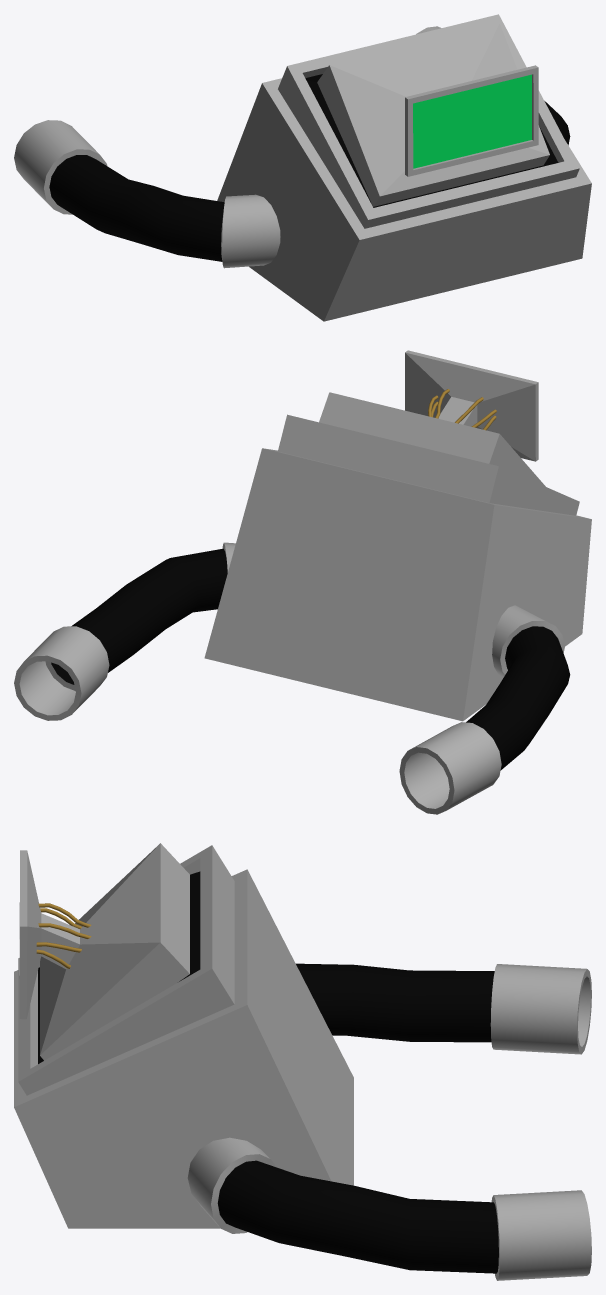
File: GiantComputer.fbx
The picture shows the model from 3 angles, top to bottom: view 1: azimuth 30°, elevation 25°; view 2: azimuth 150°, elevation 25°; view 3: azimuth 270°, elevation 25°; orthographic projection. The views are drawn at different scales.
Parts seen in each view (by area): view 1: GiantComputer:pCube2; view 2: GiantComputer:pCube2; view 3: GiantComputer:pCube2.
Boxes of the visible parts, box(x1,y1,x2,y2) form: GiantComputer:pCube2: box(14, 14, 591, 321); GiantComputer:pCube2: box(14, 350, 591, 814); GiantComputer:pCube2: box(14, 843, 591, 1280).
Size of the model in its own units: 8.85 by 8.09 by 4.22.
